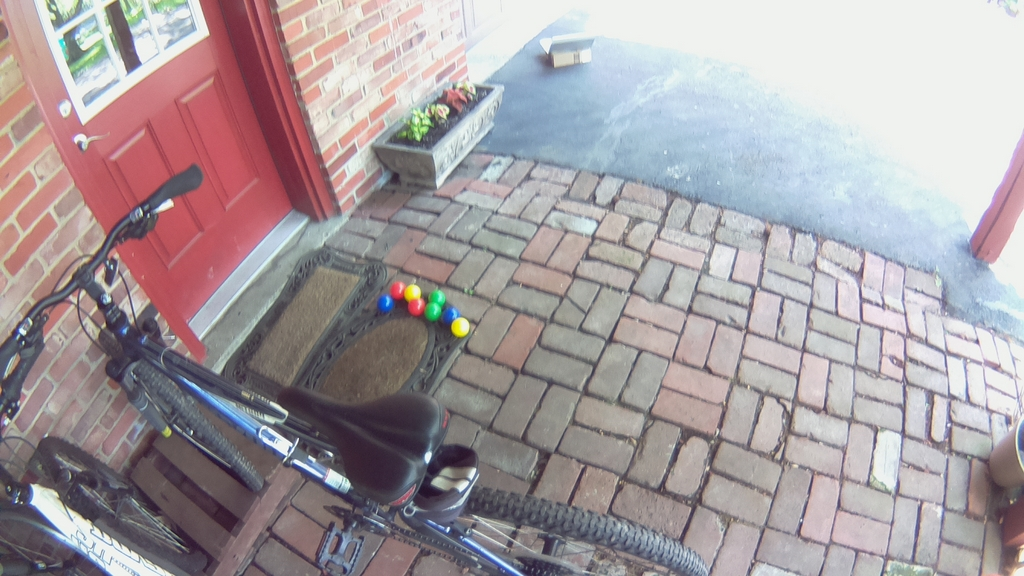ball: (379, 296, 392, 312)
